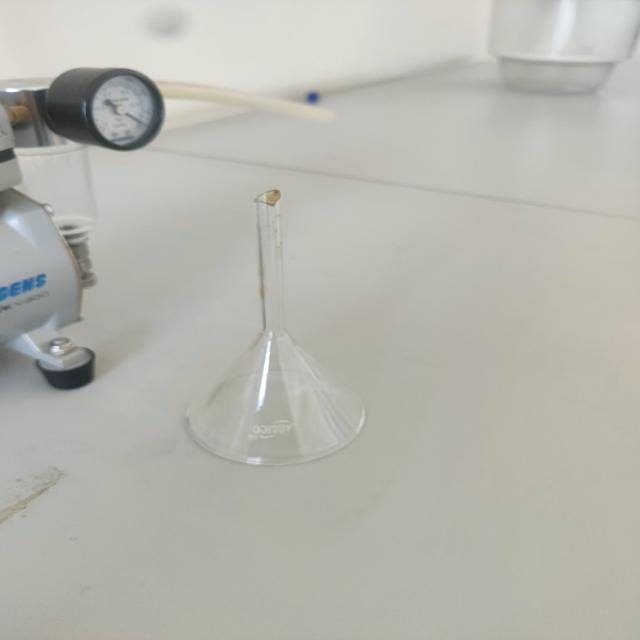Funnel: (152, 168, 405, 503)
